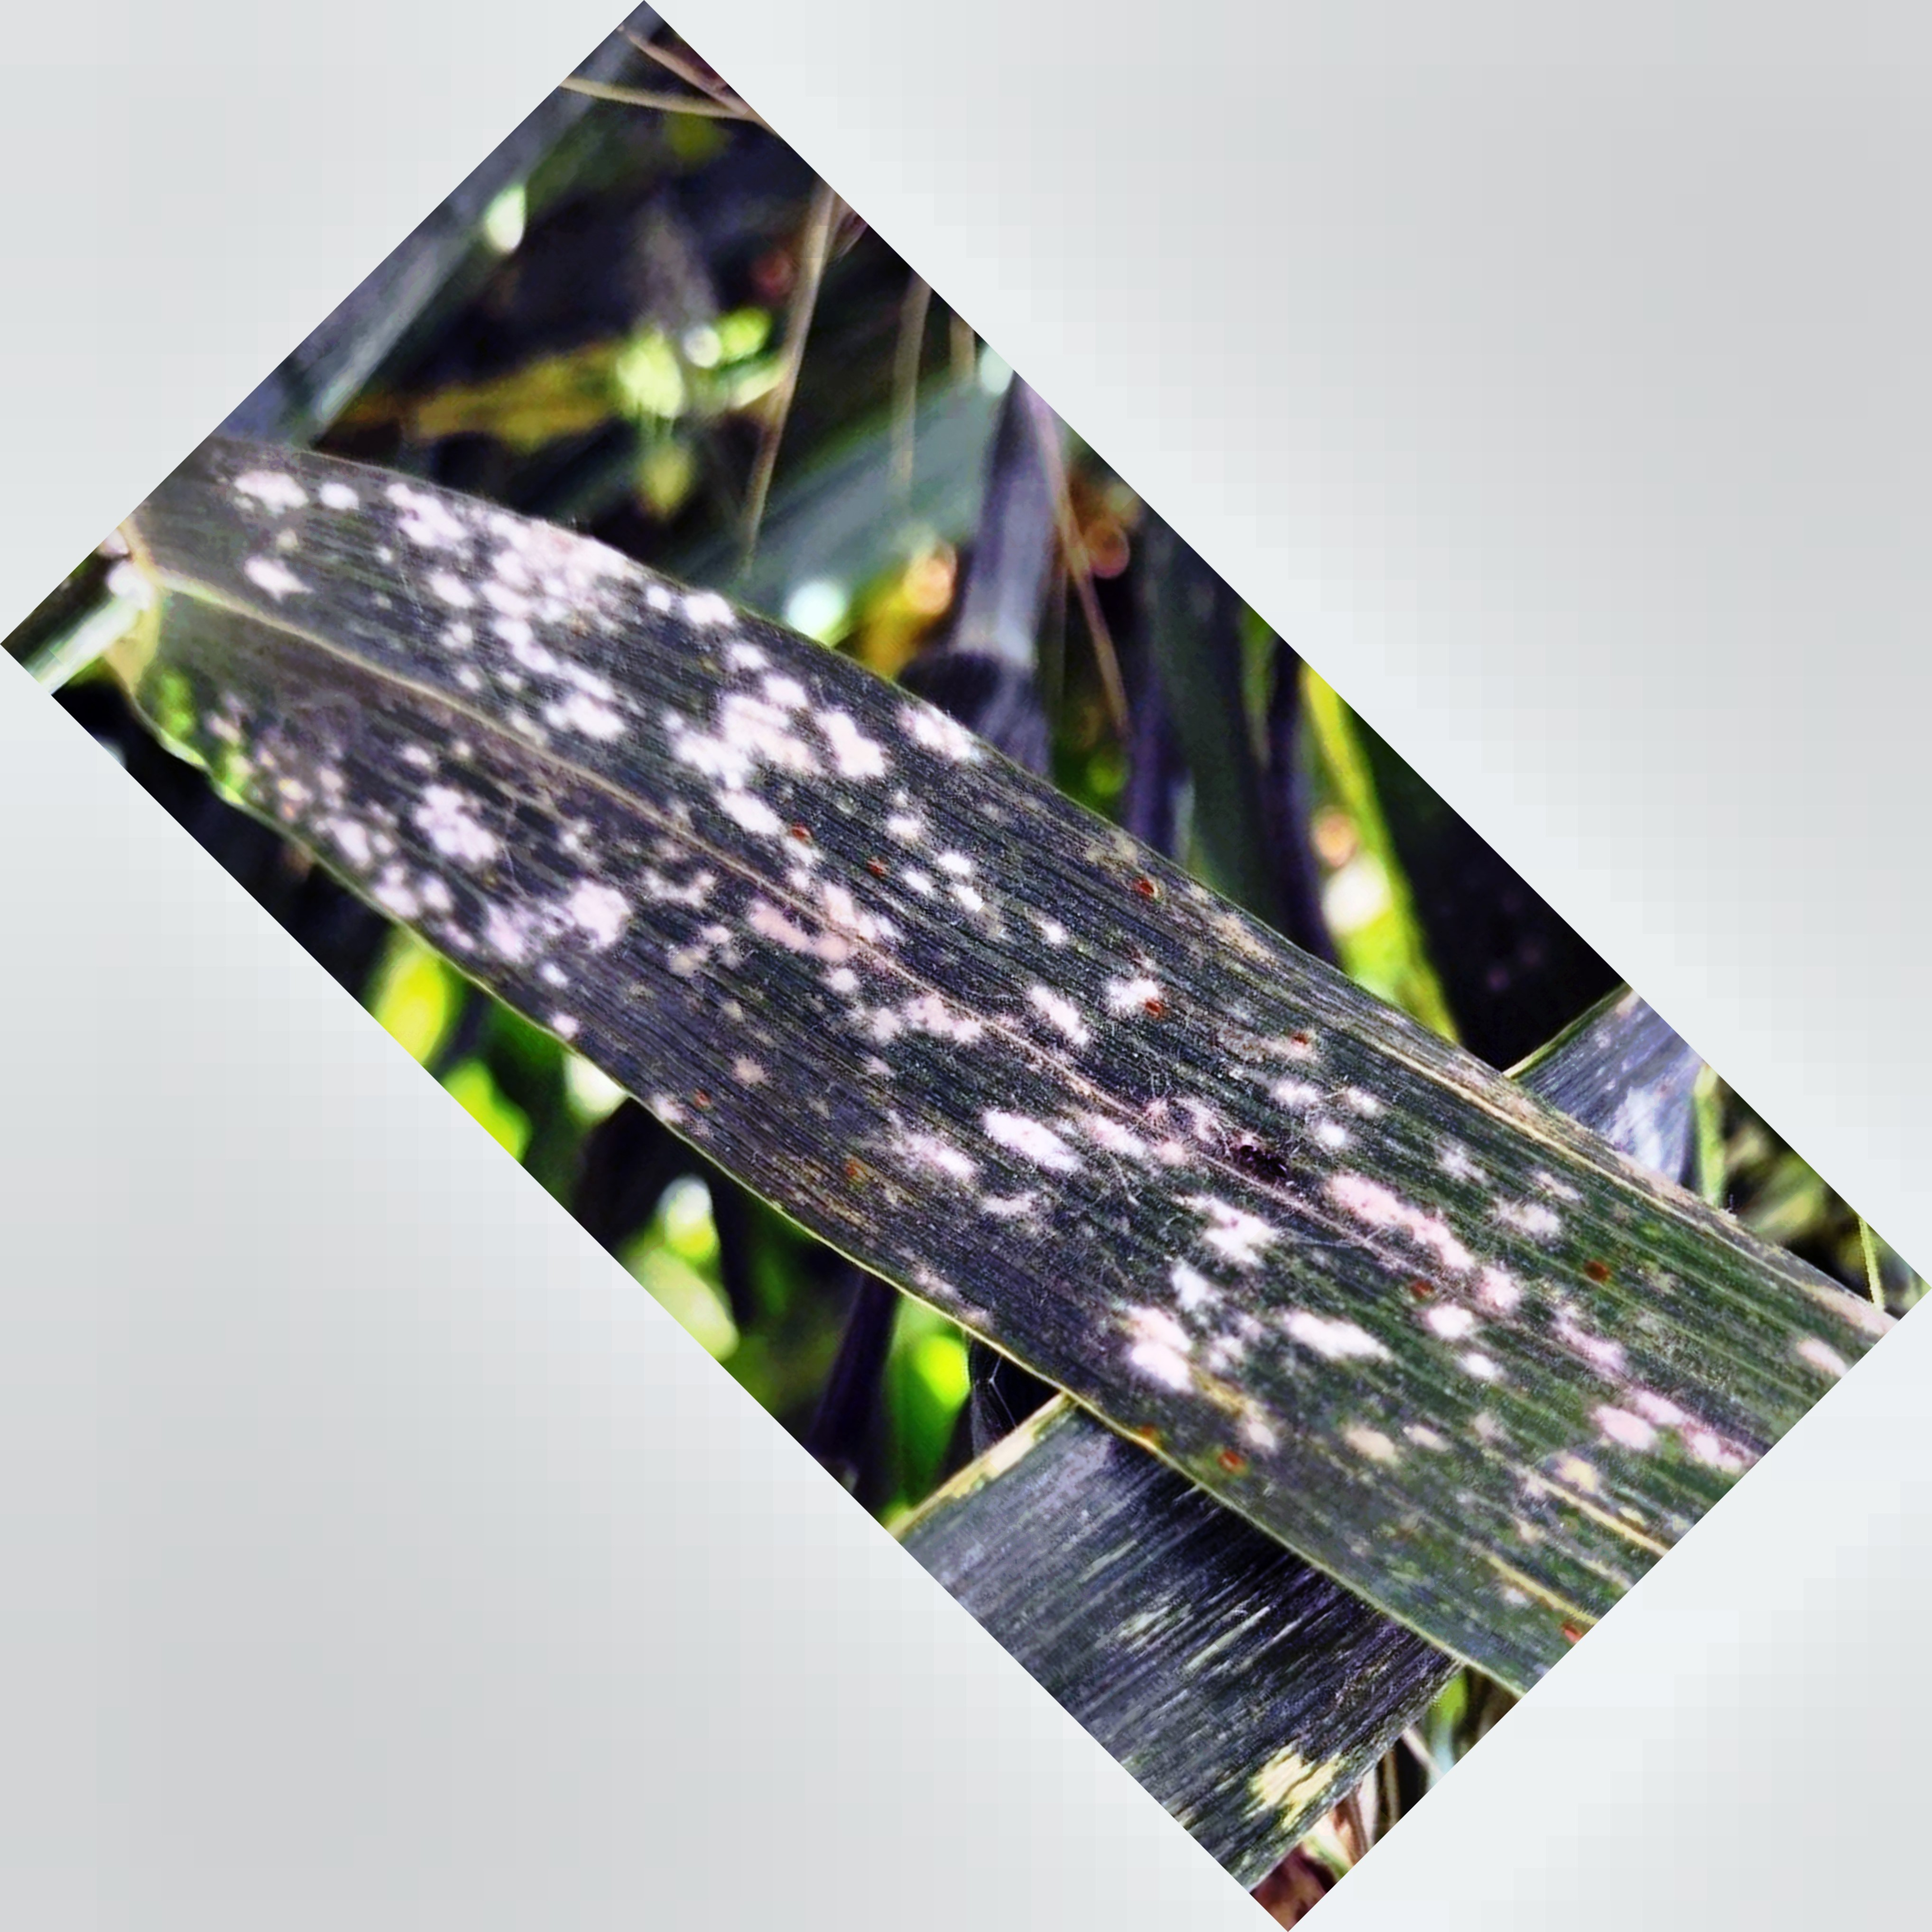Powdery Mildew: (276, 545, 1665, 1566)
